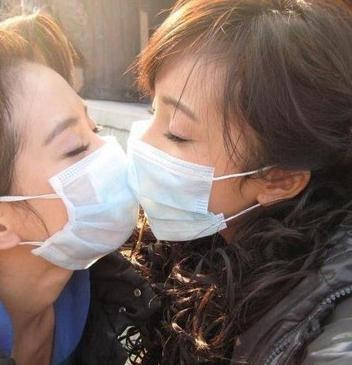OK: (127, 73, 298, 244), (1, 84, 138, 259)
